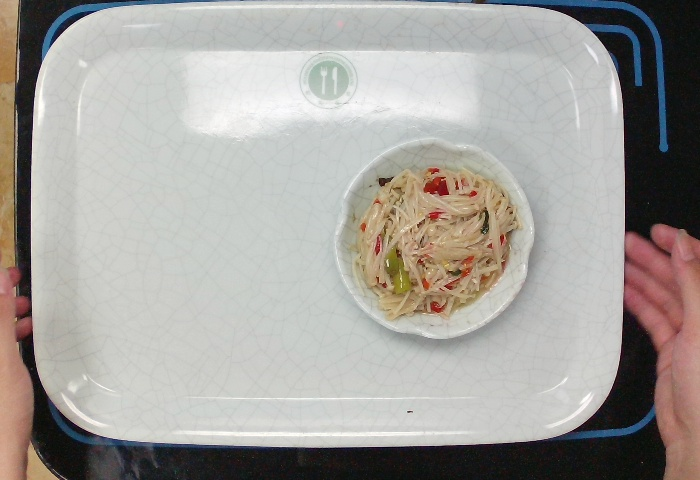JYsf-Ao_Yuan_Wan: (331, 135, 536, 341)
